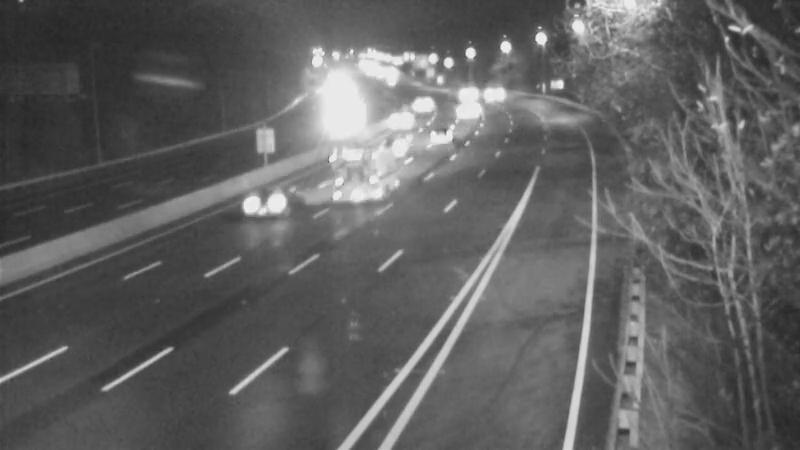vehicle: (317, 134, 397, 214), (210, 164, 290, 244), (445, 66, 495, 116), (467, 65, 517, 115), (390, 76, 440, 126), (440, 86, 490, 136), (378, 90, 428, 140), (416, 107, 466, 157), (370, 124, 420, 174)
